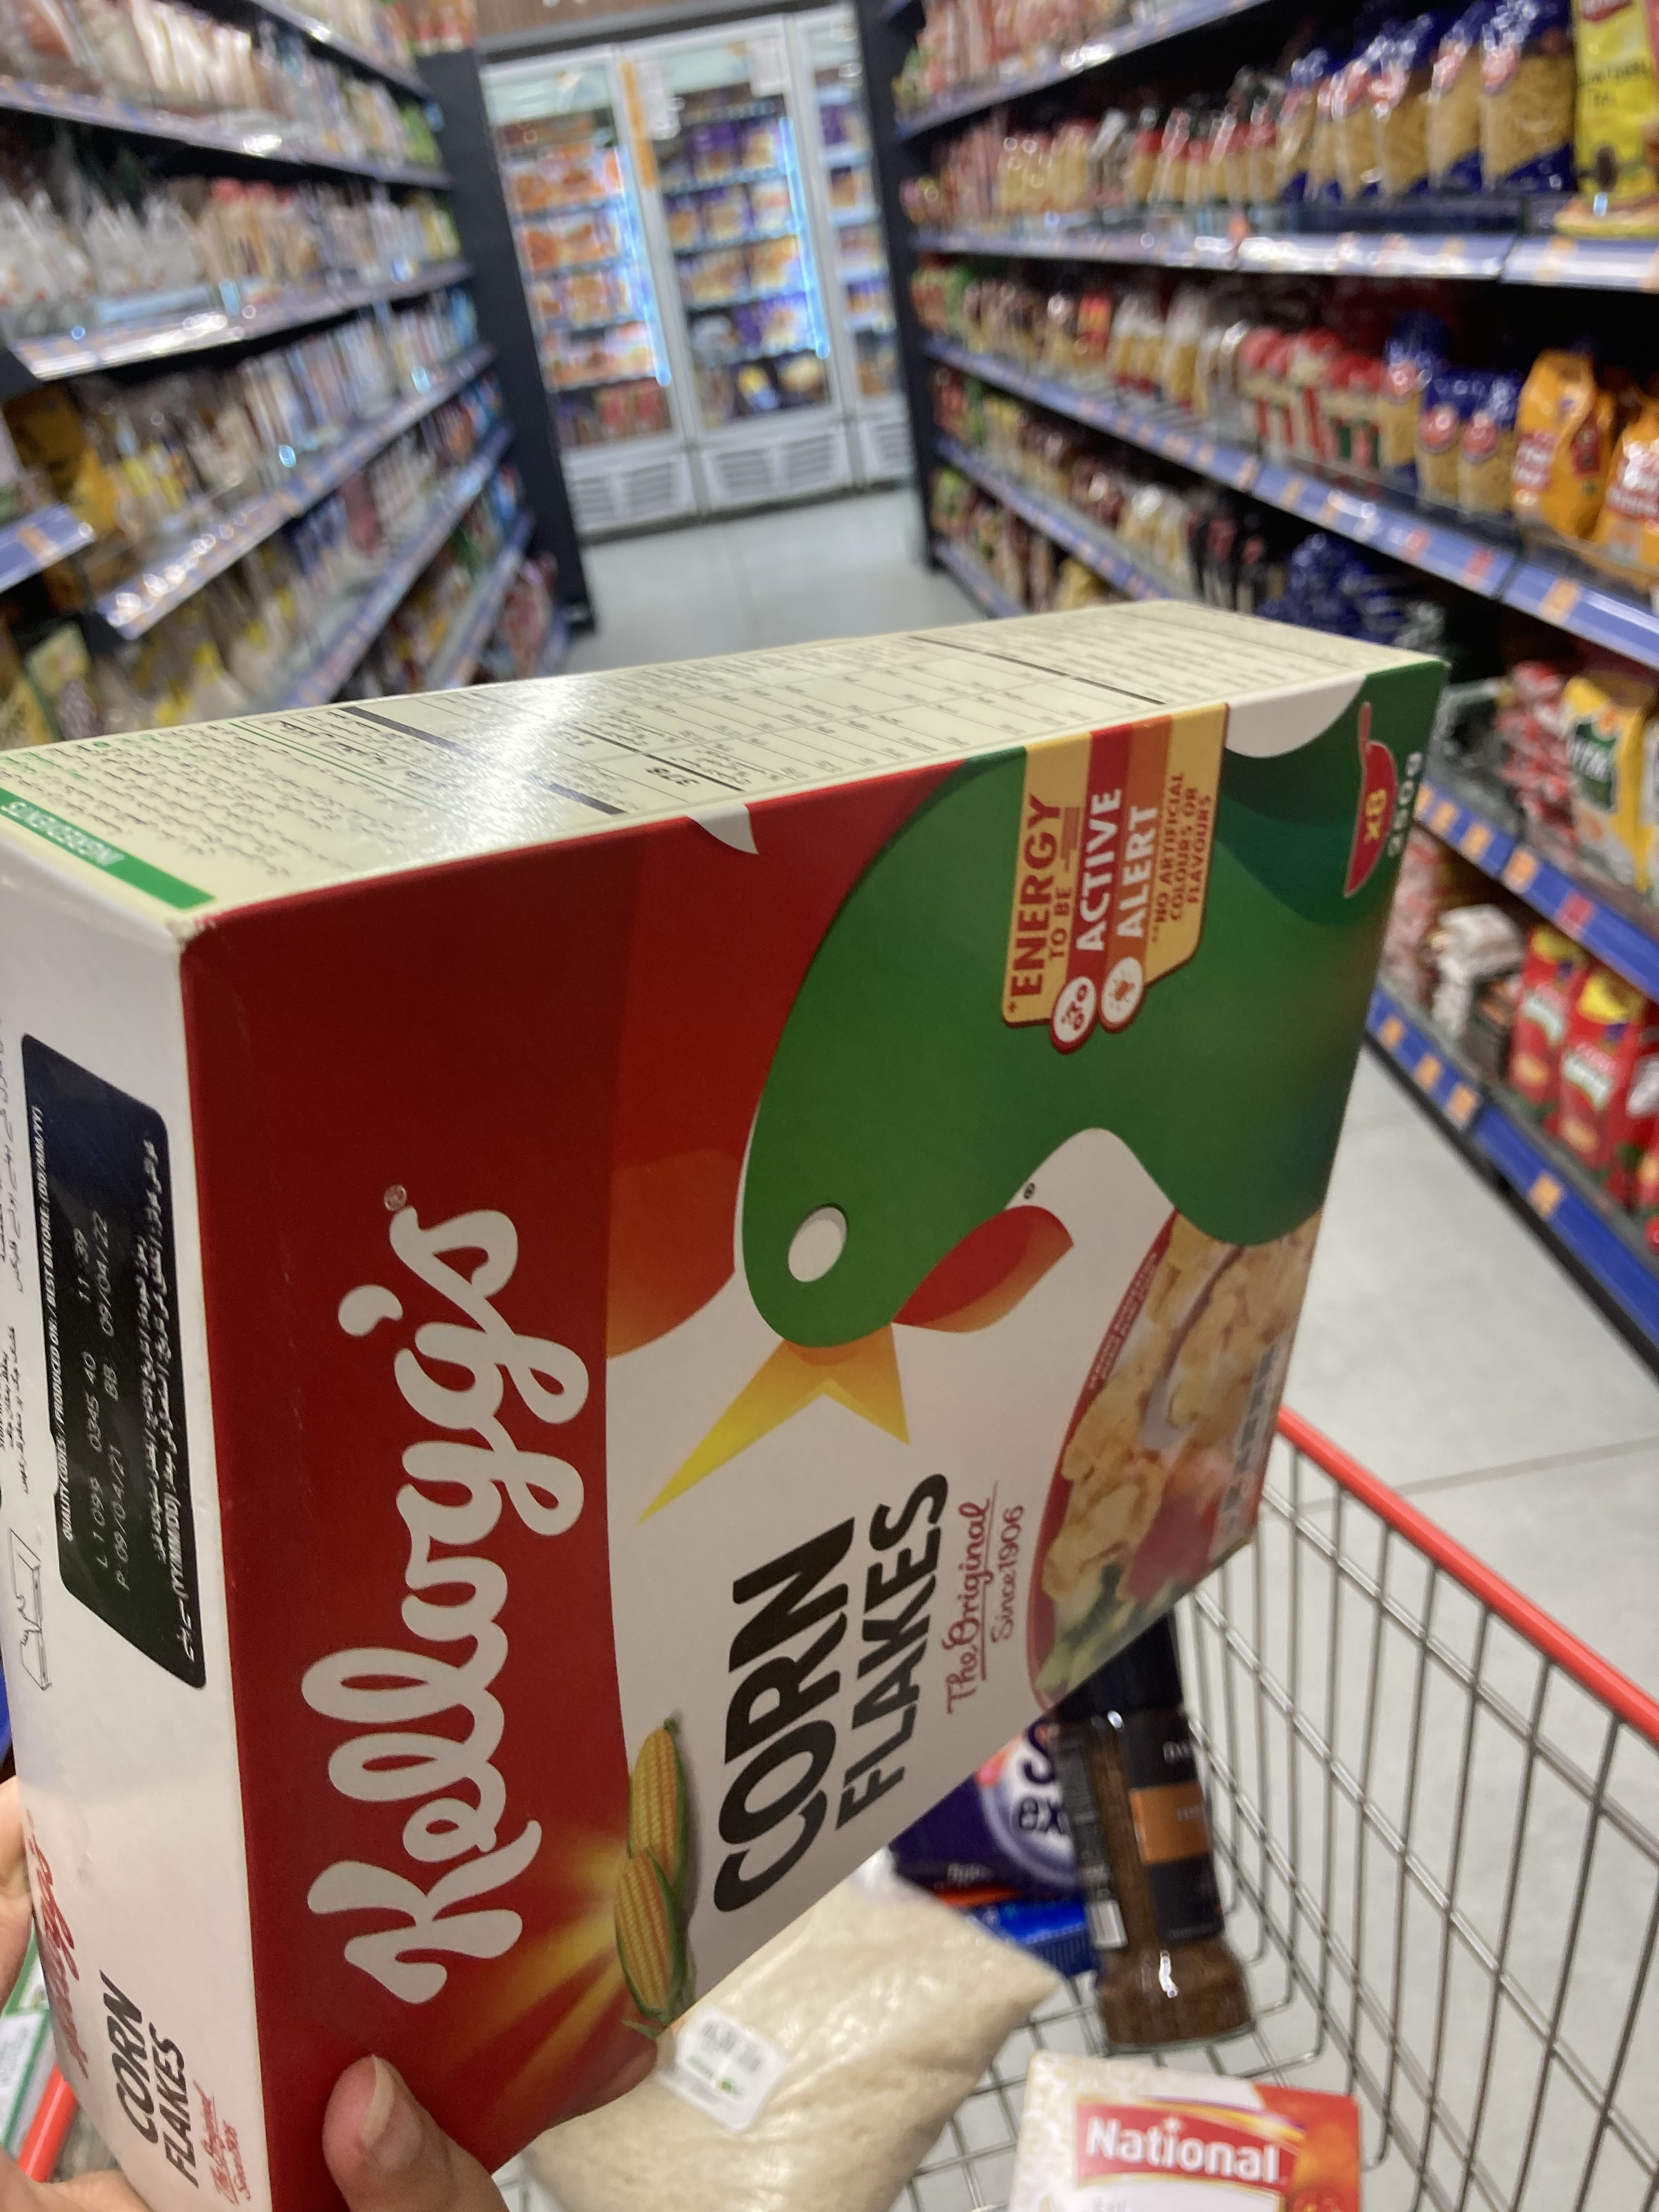Kellogg's Corn Flakes: (14, 596, 1462, 2203)
